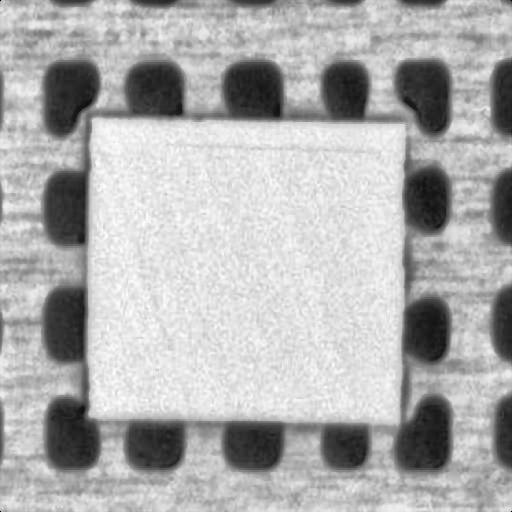DIE_CRACK: (217, 107, 503, 113)
